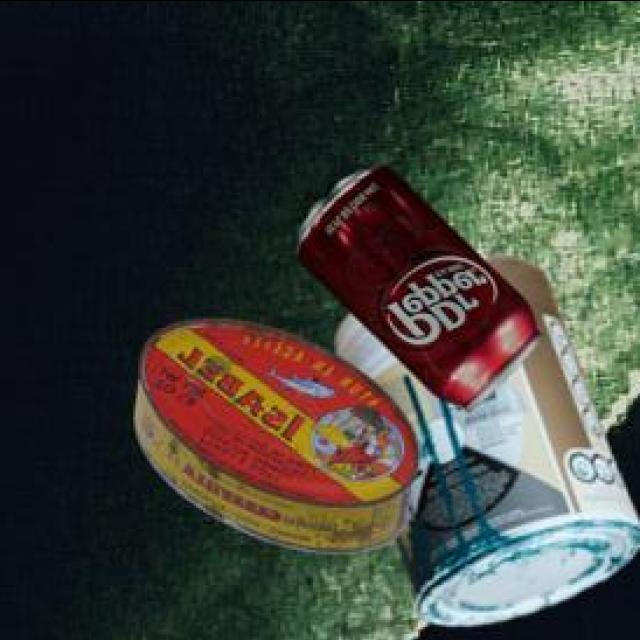logam: (331, 252, 639, 620), (132, 314, 415, 550), (293, 160, 538, 408)
